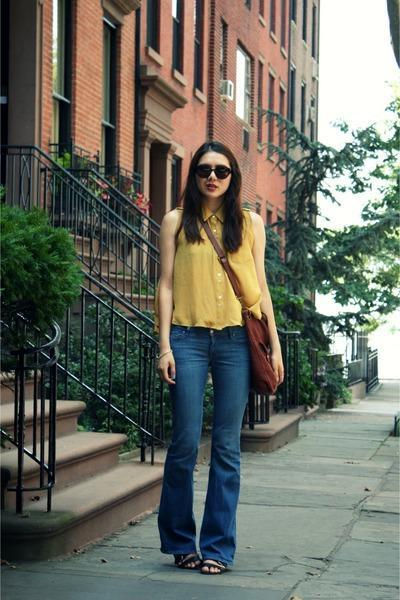pants: (156, 319, 248, 572)
shirt: (160, 204, 266, 329)
shoe: (164, 540, 227, 574)
sunglass: (204, 149, 241, 179)
